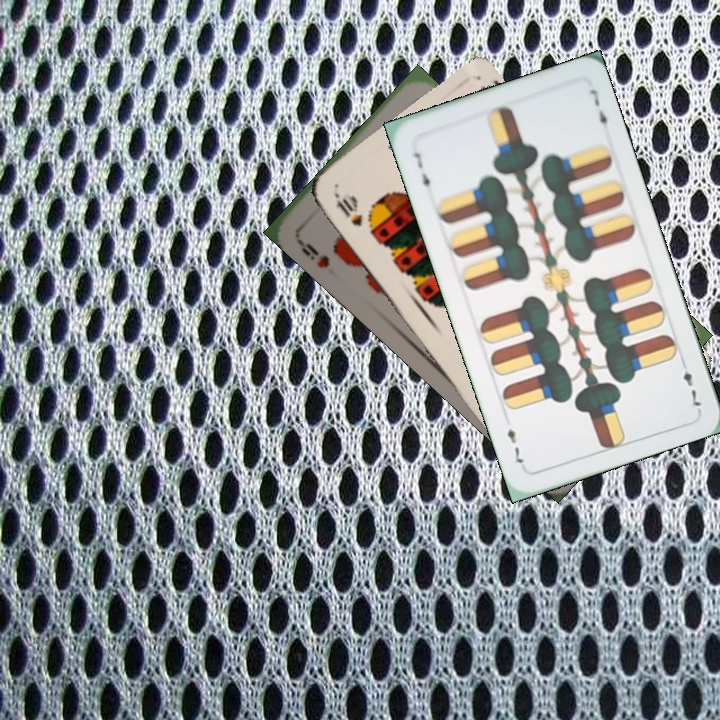E7: (676, 355, 705, 412), (409, 148, 433, 197)
H9: (292, 231, 333, 271)
S10: (330, 189, 366, 229)
